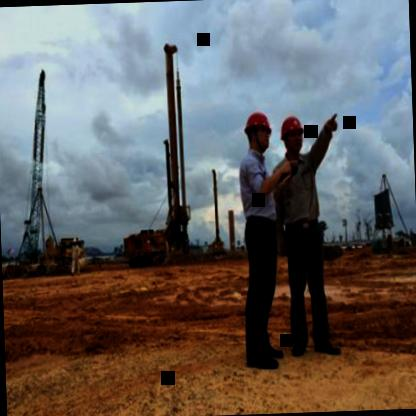helmet: (241, 102, 276, 156), (278, 107, 306, 164)
